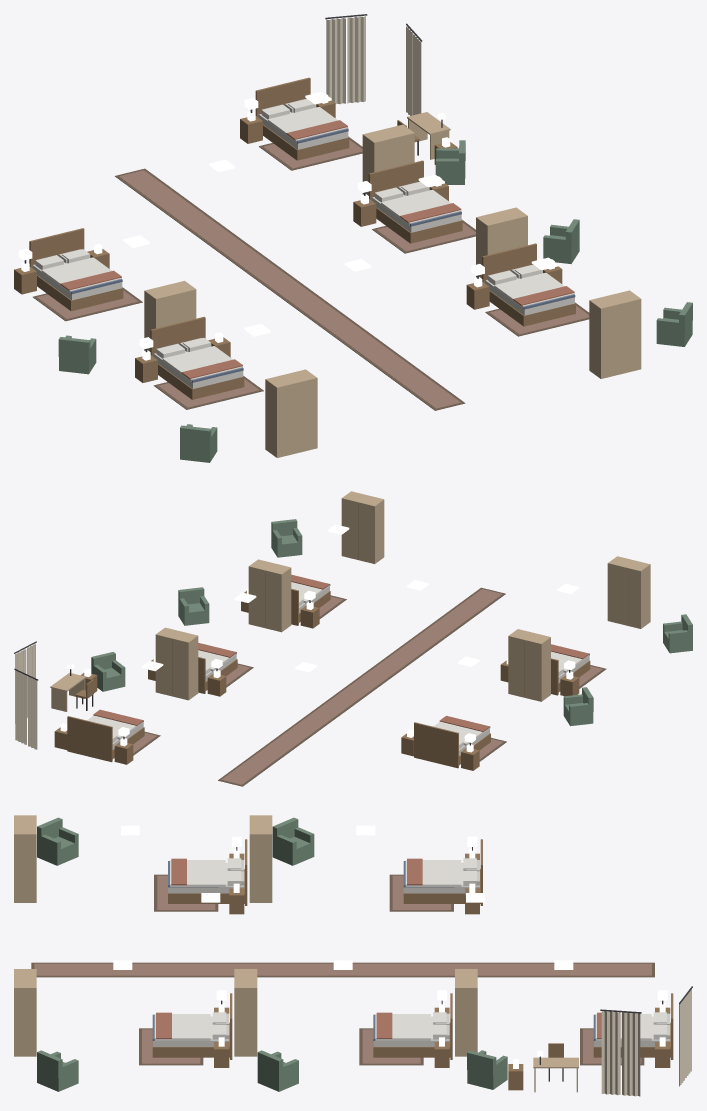
File: fine-s1.glb
The picture shows the model from 3 angles, top to bottom: view 1: azimuth 30°, elevation 25°; view 2: azimuth 150°, elevation 25°; view 3: azimuth 270°, elevation 25°; orthographic projection. The views are drawn at different scales.
Visible parts, largest first — view 1: soft-s1, dresser.004, dresser.001, bed-frame.000, bed-frame.001, bed-frame.002, bed-frame.003, bed-frame.004, dresser.002, dresser.000, dresser.003, lounge-chair.004 (+5 smaller); view 2: soft-s1, dresser.001, dresser.003, dresser.002, dresser.004, dresser.000, bed-frame.002, bed-frame.000, lounge-chair.004, lounge-chair.003, lounge-chair.002, lounge-chair.000 (+5 smaller); view 3: soft-s1, dresser.000, dresser.003, dresser.001, dresser.004, dresser.002, lounge-chair.000, lounge-chair.001, bed-frame.004, bed-frame.003, bed-frame.000, lounge-chair.003 (+10 smaller).
Boxes of the visible parts, x1,y1,x2,y2 form: soft-s1: [18, 14, 589, 410]; dresser.004: [589, 290, 641, 378]; dresser.001: [265, 369, 317, 457]; bed-frame.000: [29, 228, 123, 311]; bed-frame.001: [150, 316, 244, 399]; bed-frame.002: [255, 77, 349, 160]; bed-frame.003: [368, 160, 462, 243]; bed-frame.004: [482, 243, 575, 326]; dresser.002: [362, 124, 414, 195]; dresser.000: [144, 280, 196, 351]; dresser.003: [476, 207, 527, 278]; lounge-chair.004: [656, 302, 692, 346]; soft-s1: [14, 574, 606, 786]; dresser.001: [607, 556, 650, 628]; dresser.003: [248, 559, 291, 632]; dresser.002: [155, 627, 198, 700]; dresser.004: [341, 491, 384, 563]; dresser.000: [508, 629, 550, 701]; bed-frame.002: [67, 716, 144, 762]; bed-frame.000: [414, 722, 490, 768]; lounge-chair.004: [271, 519, 302, 557]; lounge-chair.003: [178, 587, 209, 625]; lounge-chair.002: [91, 652, 125, 691]; lounge-chair.000: [563, 687, 593, 726]; soft-s1: [31, 836, 692, 1096]; dresser.000: [249, 815, 272, 902]; dresser.003: [234, 969, 257, 1056]; dresser.001: [14, 815, 36, 902]; dresser.004: [14, 969, 36, 1056]; dresser.002: [455, 969, 477, 1056]; lounge-chair.000: [272, 817, 314, 865]; lounge-chair.001: [37, 817, 78, 865]; bed-frame.004: [152, 993, 232, 1059]; bed-frame.003: [373, 993, 452, 1059]; bed-frame.000: [403, 839, 482, 905]; lounge-chair.003: [257, 1050, 298, 1091].
Size of the model in its own units: 15.65 by 2.51 by 17.96.
